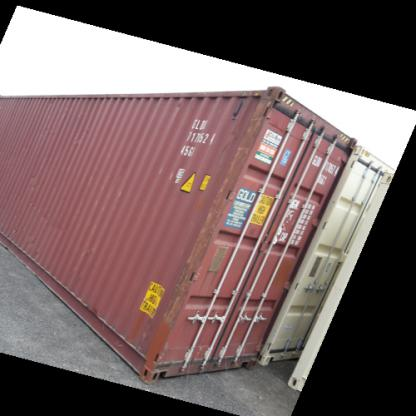Damage: (210, 81, 281, 189), (166, 180, 218, 312)
